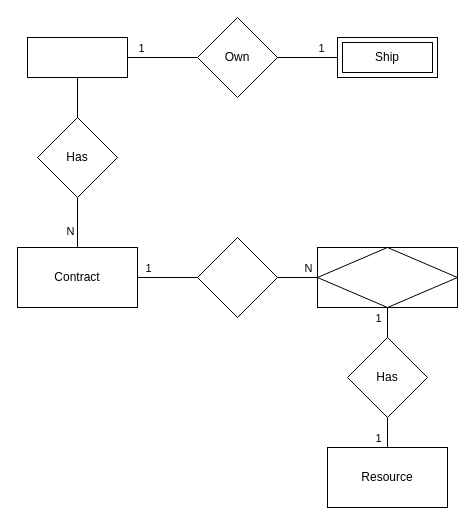
Image size: 475x525. Some labels were removed from this diagram. Each missing label, with the box of its shape:
Cargo: (316, 246, 458, 308)
Contains: (196, 236, 278, 318)
Pilot: (26, 36, 128, 78)
